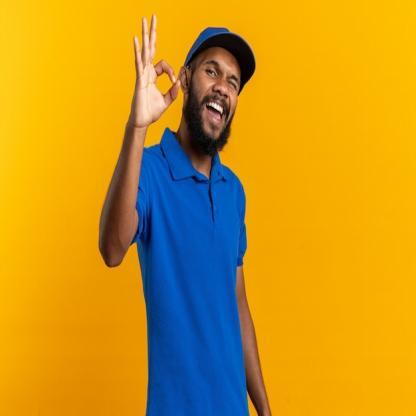ok: (126, 11, 181, 134)
